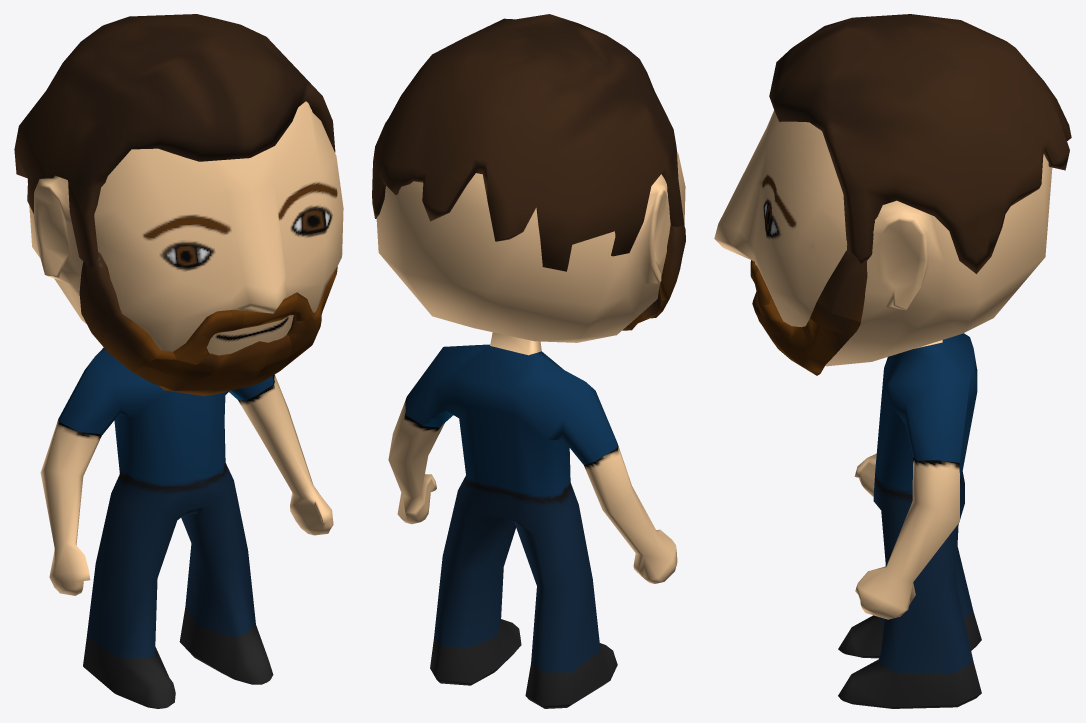
The model's file is Adam_V2.fbx.
3 views of the same model, side by side, from view 1: azimuth 30°, elevation 25°; view 2: azimuth 150°, elevation 25°; view 3: azimuth 270°, elevation 25° (orthographic).
Visible parts, largest first — view 1: Adam_body, Adam_head, Adam_hair_high, polySurface5, polySurface6, polySurface10, polySurface7, polySurface2, polySurface13, polySurface3, polySurface4, polySurface8 (+2 smaller); view 2: Adam_body, Adam_hair_high, Adam_head, polySurface5; view 3: Adam_hair_high, Adam_head, Adam_body, polySurface1, polySurface2.
Part boxes in pixels (x1,y1,x2,y2): Adam_body: [40, 347, 333, 708]; Adam_head: [27, 101, 343, 355]; Adam_hair_high: [14, 14, 335, 267]; polySurface5: [79, 252, 132, 332]; polySurface6: [92, 321, 176, 372]; polySurface10: [165, 370, 260, 396]; polySurface7: [144, 353, 220, 380]; polySurface2: [287, 273, 336, 356]; polySurface13: [209, 341, 263, 375]; polySurface3: [194, 309, 243, 338]; polySurface4: [242, 292, 297, 328]; polySurface8: [173, 332, 210, 364]; Adam_body: [388, 332, 677, 708]; Adam_hair_high: [372, 14, 684, 271]; Adam_head: [376, 151, 685, 342]; polySurface5: [659, 224, 685, 300]; Adam_hair_high: [769, 14, 1071, 273]; Adam_head: [714, 110, 1052, 366]; Adam_body: [838, 333, 981, 708]; polySurface1: [810, 250, 867, 336]; polySurface2: [758, 297, 850, 373].
Size of the model in its own units: 460 by 1009 by 504.
